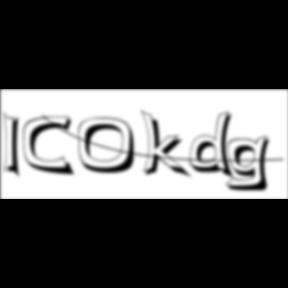C: (22, 115, 78, 178)
I: (4, 110, 28, 182)
O: (79, 117, 144, 176)
d: (190, 110, 240, 182)
g: (225, 134, 277, 194)
k: (140, 108, 194, 181)
